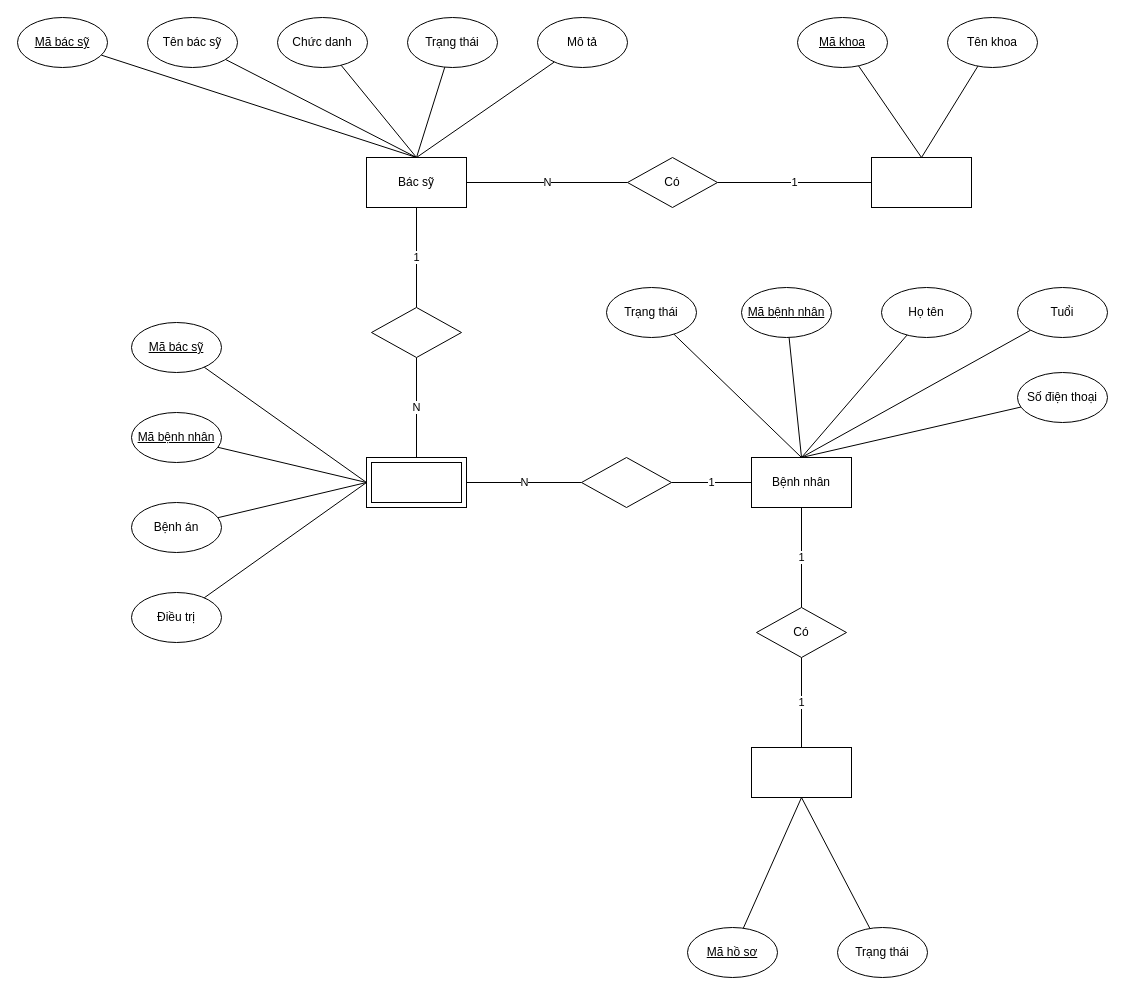
This 1125x995 diagram has some shape labels left out. The centre of each missing label's shape, as x and y in pixels:
Chi tiết khám bệnh: (416,482)
Hồ sơ khám bệnh: (801,772)
Khoa: (921,182)
Khám: (416,332)
Được khám: (626,482)
